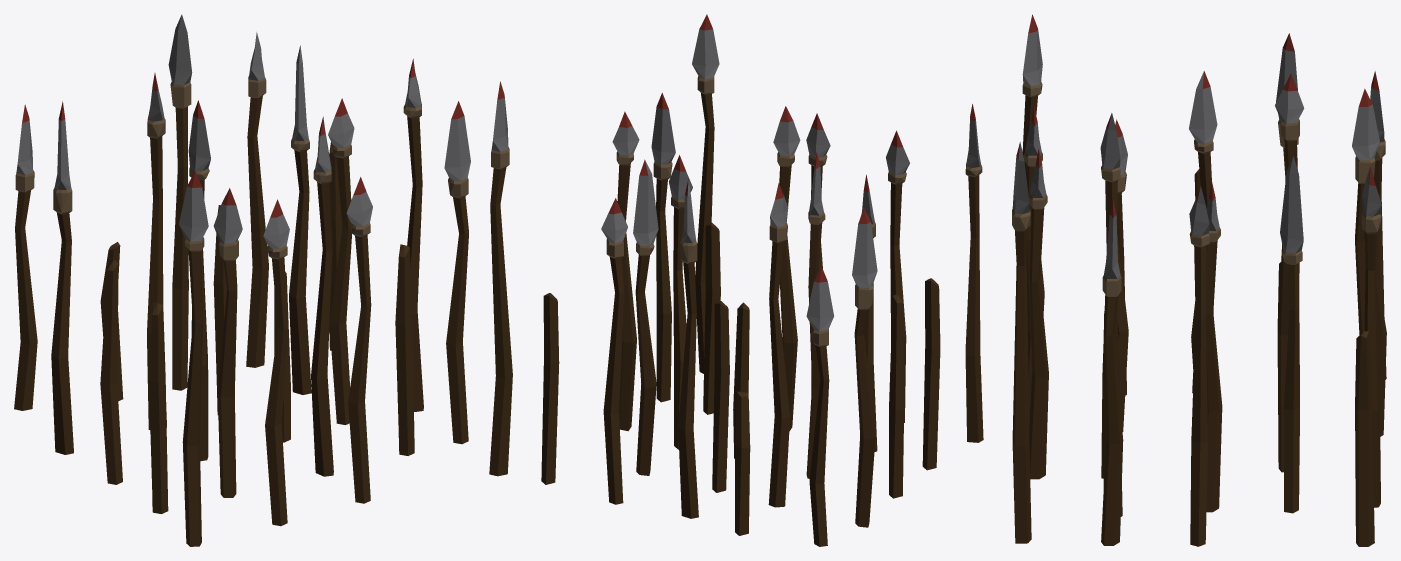
The model's file is Pinchos.FBX.
The picture shows the model from 3 angles, left to right: view 1: azimuth 30°, elevation 25°; view 2: azimuth 150°, elevation 25°; view 3: azimuth 270°, elevation 25°; orthographic projection. The views are drawn at different scales.
Visible parts, largest first — view 1: Pinchos; view 2: Pinchos; view 3: Pinchos.
Part boxes in pixels (x1,y1,x2,y2): Pinchos: [14, 14, 512, 546]; Pinchos: [541, 14, 983, 546]; Pinchos: [1012, 14, 1386, 546].
Bounding box in the file's own units: 154 × 174 × 147.
Materials: 1 (1 with a texture image).
